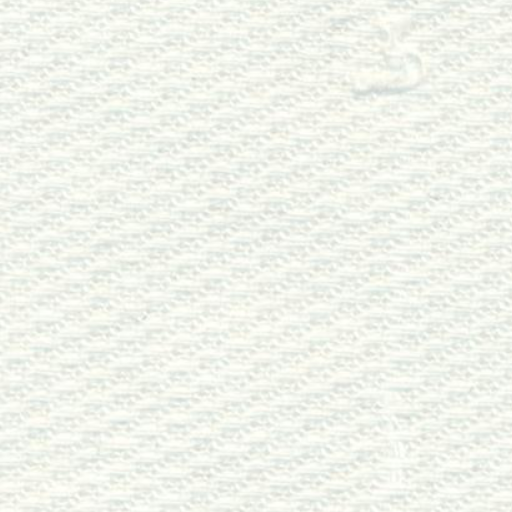DuanSha: (298, 4, 461, 106)
